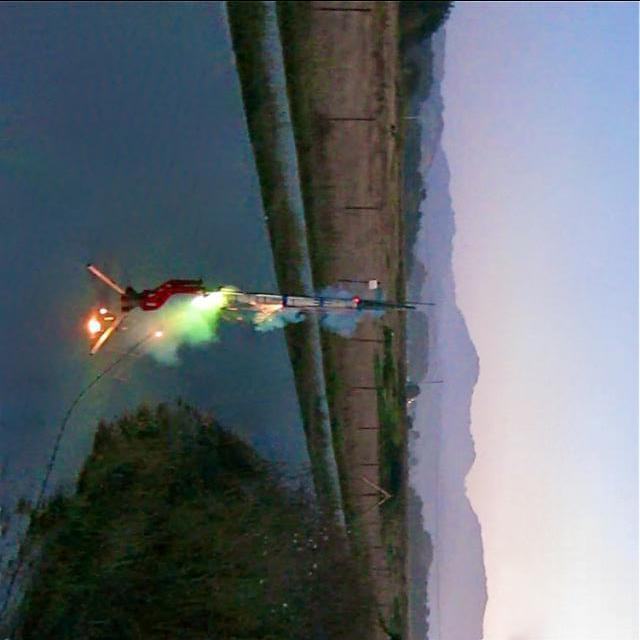missile: (202, 285, 428, 320)
